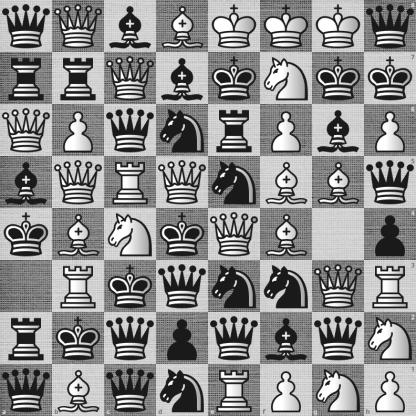B: (52, 364, 104, 416), (53, 209, 104, 260), (157, 1, 208, 52), (261, 157, 312, 208), (261, 209, 312, 260), (313, 157, 364, 208)
K: (209, 1, 260, 52), (261, 1, 312, 52), (313, 1, 364, 52)
N: (312, 364, 364, 416), (364, 312, 416, 364), (105, 209, 156, 260), (261, 53, 312, 104)
P: (260, 364, 312, 416), (364, 104, 416, 156), (364, 364, 416, 416), (53, 105, 104, 156), (261, 105, 312, 156)
Q: (1, 105, 52, 156), (53, 1, 104, 52), (53, 157, 104, 208), (105, 53, 156, 104), (157, 157, 208, 208), (209, 209, 260, 260), (313, 261, 364, 312)
R: (364, 260, 416, 312), (209, 364, 260, 416), (53, 261, 104, 312), (105, 157, 156, 208)
b: (1, 157, 52, 208), (105, 1, 156, 52), (157, 53, 208, 104), (261, 313, 312, 364), (313, 105, 364, 156)
board: (0, 0, 415, 415)
k: (364, 52, 416, 104), (1, 209, 52, 260), (53, 313, 104, 364), (105, 261, 156, 312), (157, 209, 208, 260), (209, 53, 260, 104), (313, 53, 364, 104)
n: (156, 364, 209, 416), (157, 105, 208, 156), (209, 157, 260, 208), (209, 261, 260, 312), (261, 261, 312, 312)
p: (364, 209, 416, 260), (157, 313, 208, 364)
q: (364, 156, 416, 209), (0, 364, 52, 416), (104, 364, 156, 416), (364, 0, 416, 52), (1, 1, 52, 52), (105, 105, 156, 156), (105, 313, 156, 364), (157, 261, 208, 312), (209, 313, 260, 364), (313, 313, 364, 364)
r: (1, 53, 52, 104), (1, 313, 52, 364), (53, 53, 104, 104), (209, 105, 260, 156)
